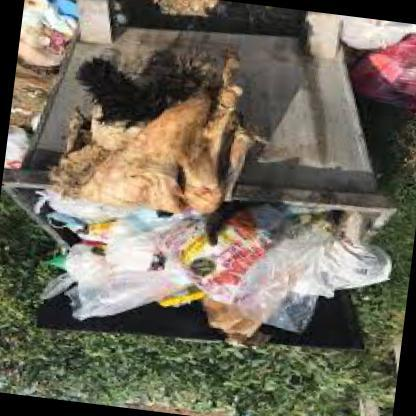Garbage: (36, 172, 404, 349), (55, 52, 272, 231), (278, 202, 393, 320), (51, 244, 195, 329), (187, 202, 283, 296), (104, 200, 203, 275), (202, 268, 286, 352), (40, 180, 122, 244), (367, 35, 415, 115), (18, 0, 69, 67), (346, 17, 415, 56), (3, 124, 30, 167)
